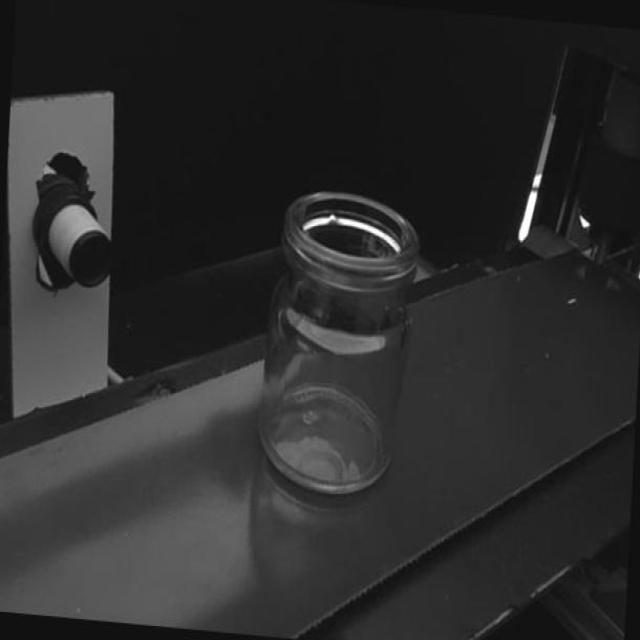defect: (324, 209, 343, 225)
glass: (258, 180, 425, 500)
